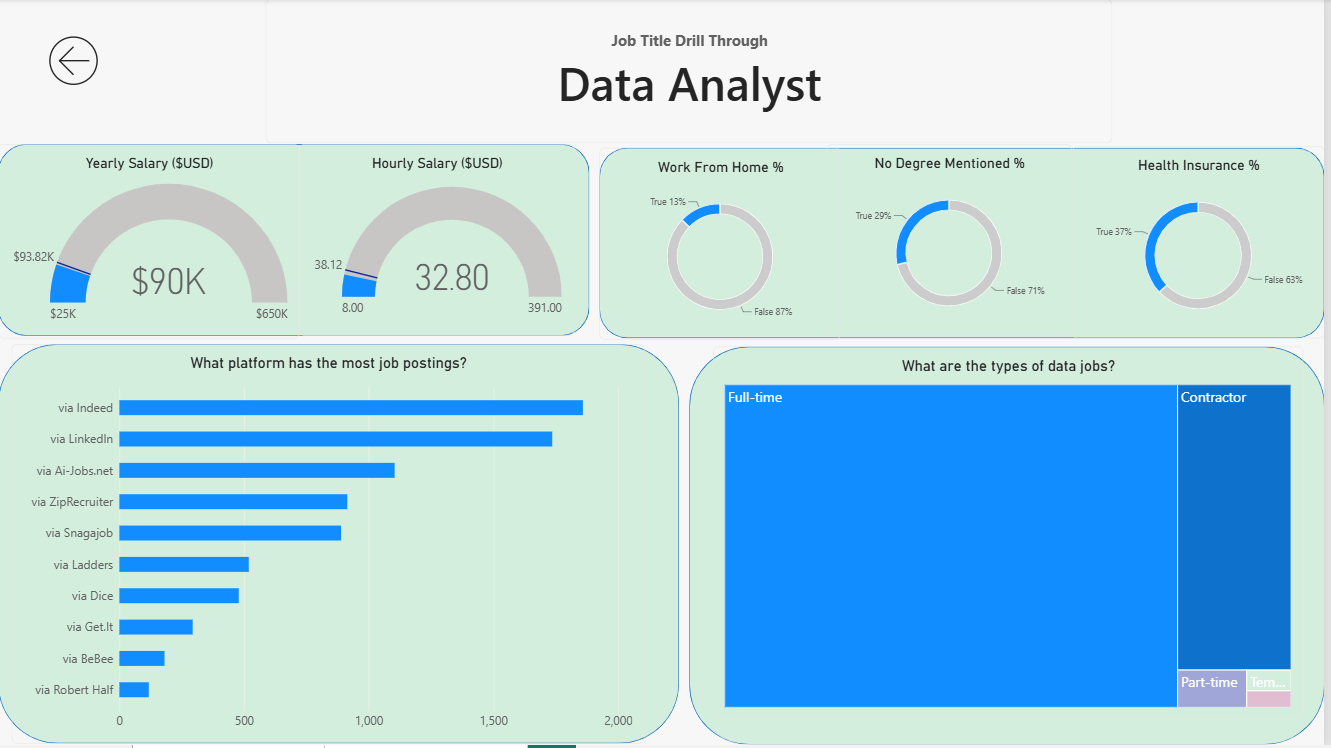

The page's visual inventory and layout, read from the dashboard file:
{"tool":"powerbi","page":{"name":"Job Title Drill Through","canvas":[1920,1080],"ordinal":1},"visuals":[{"type":"shape","box":[0,210.1,856.3,277.9],"z":0,"group":"g1"},{"type":"group","id":"g1","title":"BackGround","box":[0,210.1,1920.4,868.6],"z":0},{"type":"cardVisual","fields":{"Data":["Min(Data.job_title_short)1"]},"box":[387,0,1226.8,209.9],"z":1000},{"type":"shape","box":[870.7,216.2,1049.7,275.8],"z":1000,"group":"g1"},{"type":"actionButton","box":[0,0,218.2,179.1],"z":2000},{"type":"shape","box":[0,500.3,985.9,578.4],"z":2000,"group":"g1"},{"type":"gauge","title":"Yearly Salary ($USD)","fields":{"MaxValue":["Max(Data.salary_year_avg)"],"MinValue":["Min(Data.salary_year_avg)"],"TargetValue":["Avg(Data.salary_year_avg)1"],"Y":["Median(Data.salary_year_avg)"]},"box":[0,209.9,436.4,282],"z":3000},{"type":"shape","box":[1000.3,502.4,920.1,576.3],"z":3000,"group":"g1"},{"type":"gauge","title":"Hourly Salary ($USD)","fields":{"MaxValue":["Max(Data.salary_hour_avg)2"],"MinValue":["Min(Data.salary_hour_avg)1"],"TargetValue":["Avg(Data.salary_hour_avg)3"],"Y":["Median(Data.salary_hour_avg)"]},"box":[436.4,209.9,397.3,277.9],"z":4000},{"type":"donutChart","title":"Work From Home %","fields":{"Category":["Data.job_work_from_home"],"Y":["CountNonNull(Data.job_title_short)"]},"box":[870.7,216.1,349.9,277.9],"z":5000},{"type":"donutChart","title":"No Degree Mentioned %","fields":{"Category":["Data.job_no_degree_mention"],"Y":["CountNonNull(Data.job_title_short)"]},"box":[1200,209.9,354,277.9],"z":6000},{"type":"donutChart","title":"Health Insurance %","fields":{"Category":["Data.job_health_insurance"],"Y":["CountNonNull(Data.job_title_short)"]},"box":[1554,214.1,366.4,277.9],"z":7000},{"type":"treemap","title":"What are the types of data jobs?","fields":{"Group":["Data.job_schedule_type"],"Values":["CountNonNull(Data.job_title_short)"]},"box":[1035.3,502.2,854.2,539.3],"z":8000},{"type":"barChart","title":"What platform has the most job postings?","fields":{"Category":["Data.job_via"],"Y":["CountNonNull(Data.job_title_short)"]},"box":[20.6,500.2,916,578.4],"z":9000}]}

Visuals, with their boxes in screenshot pixels (x1, y1, x2, y2), scaled from the page's 1920x1080 canvas onto the 1331x748 screenshot:
shape: [0, 146, 594, 338]
"BackGround" group: [0, 146, 1330, 747]
cardVisual - Min(Data.job_title_short)1: [268, 0, 1119, 145]
shape: [604, 150, 1330, 341]
actionButton: [0, 0, 151, 124]
shape: [0, 347, 683, 747]
"Yearly Salary ($USD)" gauge: [0, 145, 303, 341]
shape: [693, 348, 1330, 747]
"Hourly Salary ($USD)" gauge: [303, 145, 578, 338]
"Work From Home %" donutChart: [604, 150, 846, 342]
"No Degree Mentioned %" donutChart: [832, 145, 1077, 338]
"Health Insurance %" donutChart: [1077, 148, 1330, 341]
"What are the types of data jobs?" treemap: [718, 348, 1310, 721]
"What platform has the most job postings?" barChart: [14, 346, 649, 747]
